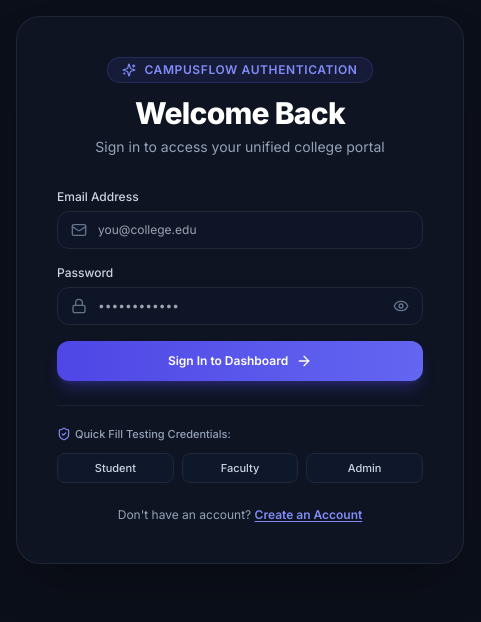
Scenario: Client Authentication Views & Guards › renders LoginPage with form controls and validation on empty submit
The width and height of the screenshot is (481, 622).
Expected: the heading "Welcome Back" is shown, [135,95,345,131]
Expected: the field with placeholder "you@college.edu" is shown, [57,211,423,249]
Click the button "Sign In to Dashboard" at (240, 361), box [57,341,423,381]
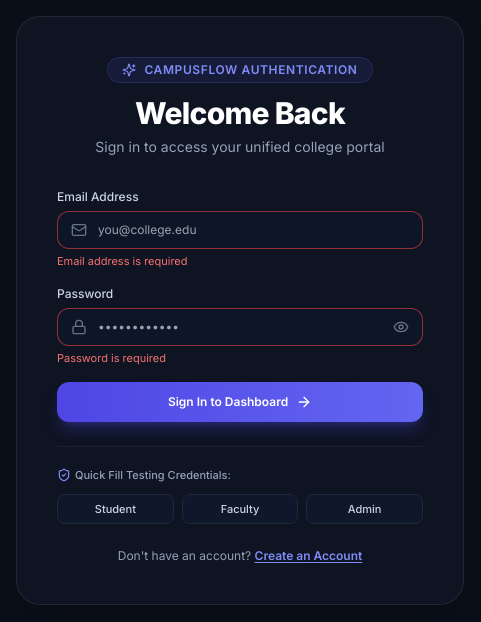
Result: the text "Email address is required" is shown at [57,254,188,268]
Result: the text "Password is required" is shown at [57,350,166,364]
